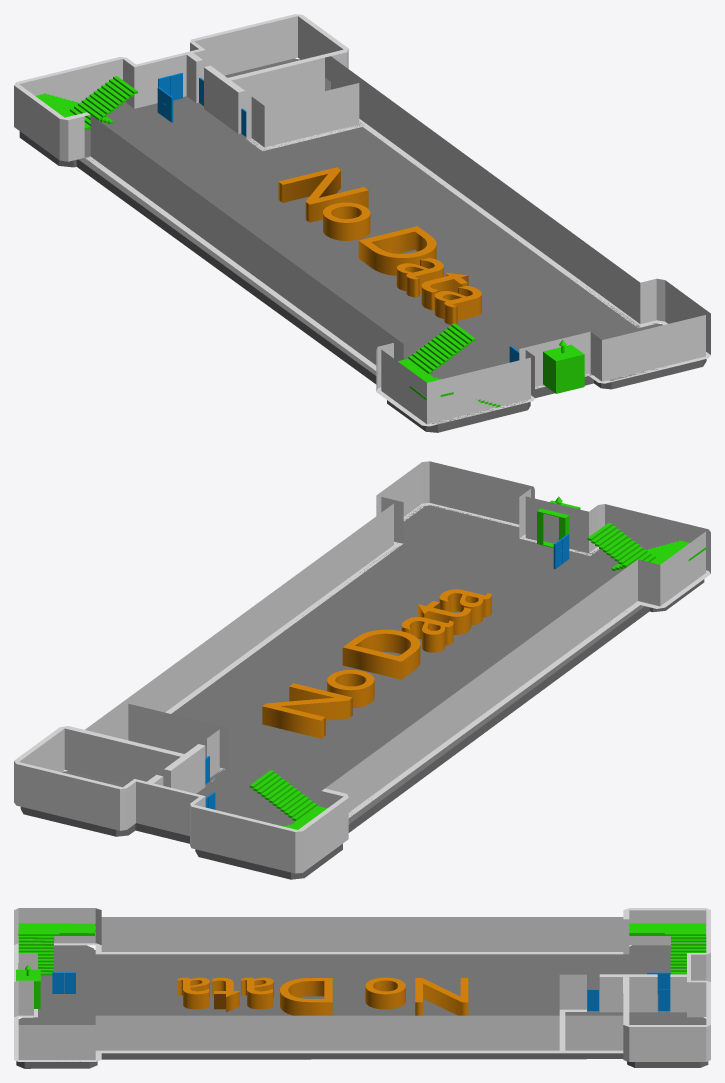
The picture shows the model from 3 angles, top to bottom: view 1: azimuth 30°, elevation 25°; view 2: azimuth 150°, elevation 25°; view 3: azimuth 270°, elevation 25°; orthographic projection. The views are drawn at different scales.
Visible parts, largest first — view 1: Wall.002, Floor.002, Text.014, Elevator1.002, Stair1.011, Stair1.009; view 2: Wall.002, Floor.002, Text.014, Stair1.009, Stair1.011, Elevator1.002; view 3: Wall.002, Floor.002, Text.014, Stair1.008, Stair1.010, StairFlatFloor2.004, StairFlatFloor2.005, Door.037, Elevator1.002, Door.053, Door.043.
Boxes of the visible parts, x1,y1,x2,y2 form: Wall.002: [14, 14, 710, 426]; Floor.002: [19, 58, 706, 432]; Text.014: [278, 167, 481, 324]; Elevator1.002: [543, 344, 584, 393]; Stair1.011: [408, 323, 475, 373]; Stair1.009: [70, 76, 137, 125]; Wall.002: [14, 461, 710, 873]; Floor.002: [20, 505, 704, 879]; Text.014: [262, 589, 491, 738]; Stair1.009: [249, 770, 316, 820]; Stair1.011: [587, 523, 655, 567]; Elevator1.002: [537, 500, 580, 547]; Wall.002: [14, 908, 710, 1061]; Floor.002: [16, 945, 708, 1068]; Text.014: [177, 977, 468, 1015]; Stair1.008: [670, 936, 706, 974]; Stair1.010: [18, 935, 54, 975]; StairFlatFloor2.004: [629, 923, 705, 935]; StairFlatFloor2.005: [18, 923, 95, 935]; Door.037: [52, 972, 75, 993]; Elevator1.002: [16, 969, 40, 1008]; Door.053: [647, 972, 670, 993]; Door.043: [658, 989, 670, 1010].
Bounding box in the file's own units: 1.02 × 0.1973 × 2.52.
